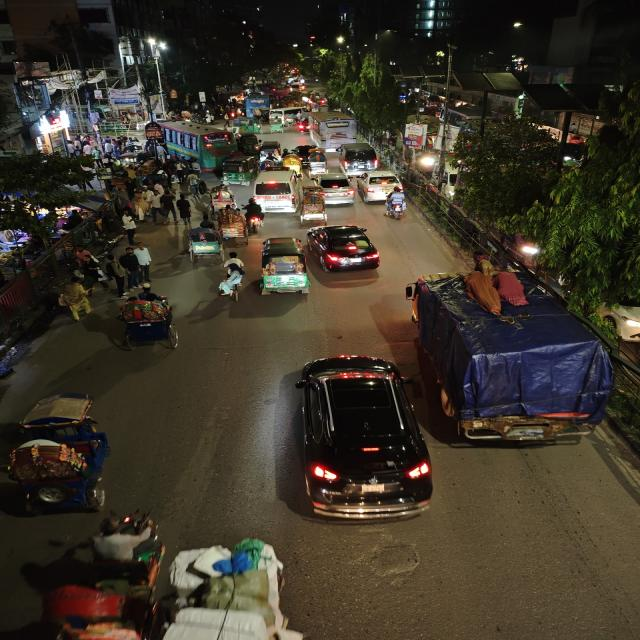bicycle: (220, 258, 248, 304)
bus: (162, 122, 228, 167), (308, 112, 356, 148), (243, 95, 269, 116)
car: (278, 352, 446, 528), (304, 220, 390, 282), (251, 166, 299, 216), (315, 171, 357, 209), (338, 144, 384, 176), (357, 171, 399, 204)
cng: (249, 234, 311, 296), (223, 154, 257, 185), (234, 117, 262, 134), (234, 134, 260, 152)
motorcycle: (380, 189, 411, 219)
pedestrian: (103, 253, 131, 301), (79, 253, 103, 295), (118, 249, 144, 284), (134, 242, 154, 282), (173, 193, 196, 227), (159, 189, 179, 226), (185, 169, 208, 198), (130, 189, 148, 221), (122, 210, 137, 246), (149, 190, 162, 226), (171, 160, 185, 186), (159, 162, 171, 180), (153, 180, 165, 197), (222, 113, 233, 127)
rickshaw: (6, 392, 120, 521), (111, 288, 191, 352), (299, 184, 328, 227), (306, 152, 331, 176), (281, 150, 303, 173), (267, 116, 286, 134)
truck: (412, 260, 600, 444)
